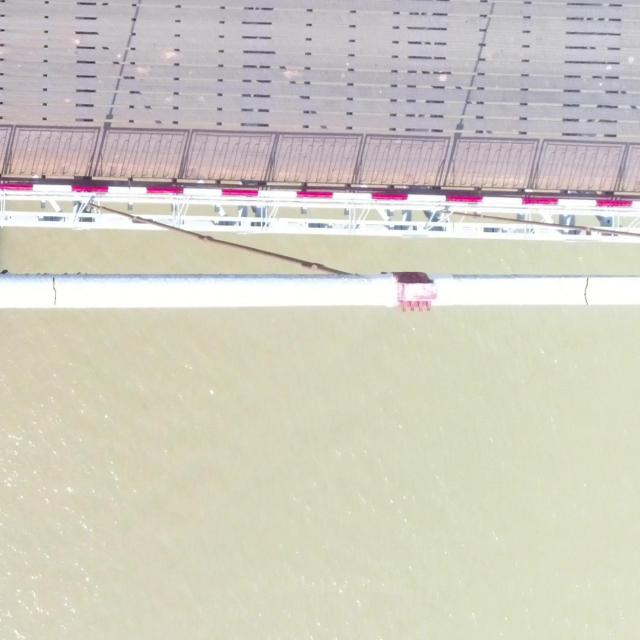crack: (51, 276, 58, 306), (583, 277, 589, 305)
